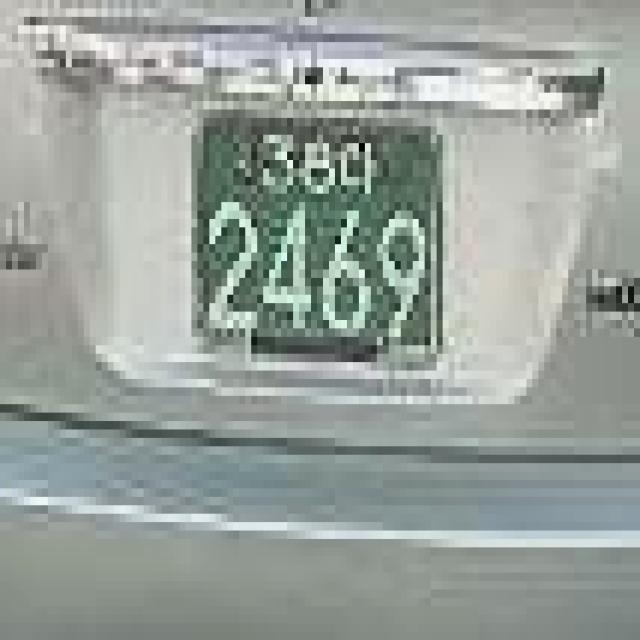illegal_plate: (181, 88, 462, 387)
